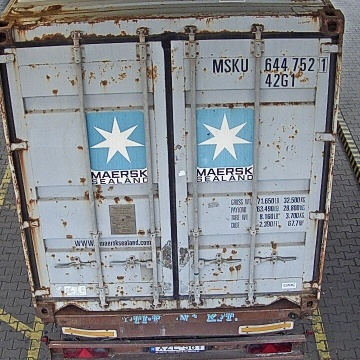serial_id: (213, 57, 328, 72)
